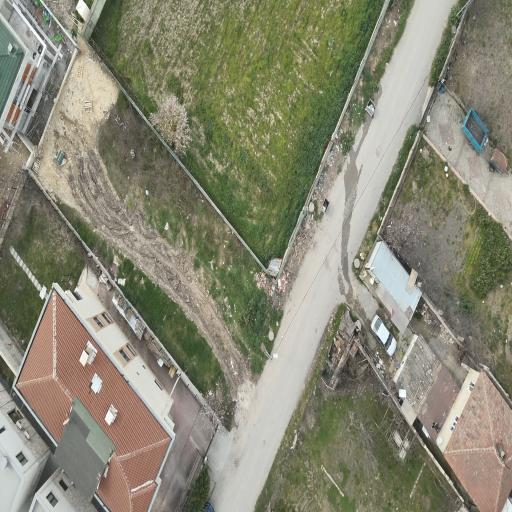car: (371, 314, 396, 355), (204, 500, 215, 511)
